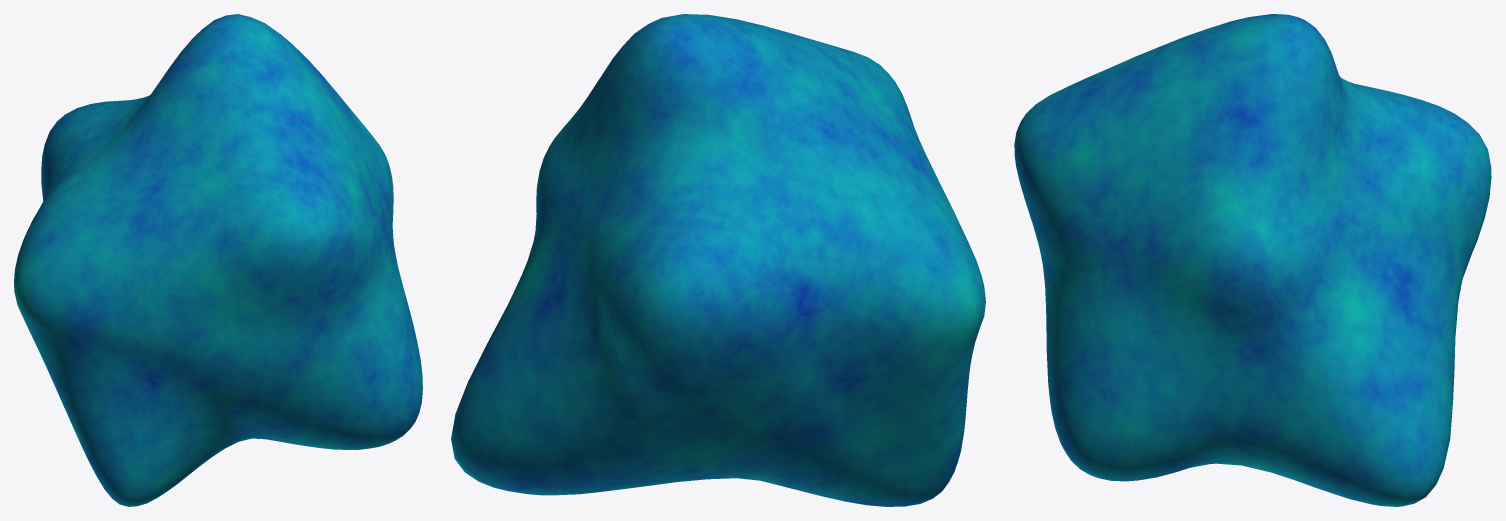
File: blob.obj
3 renders of one model, left to right at view 1: azimuth 30°, elevation 25°; view 2: azimuth 150°, elevation 25°; view 3: azimuth 270°, elevation 25°, orthographic. The views are drawn at different scales.
Visible parts, largest first — view 1: Icosphere; view 2: Icosphere; view 3: Icosphere.
Boxes of the visible parts, box(x1,y1,x2,y2) form: Icosphere: box(14, 14, 422, 506); Icosphere: box(451, 14, 985, 506); Icosphere: box(1014, 14, 1491, 506).
Size of the model in its own units: 2.66 by 2.8 by 2.64.
Materials: 1 (1 with a texture image).
